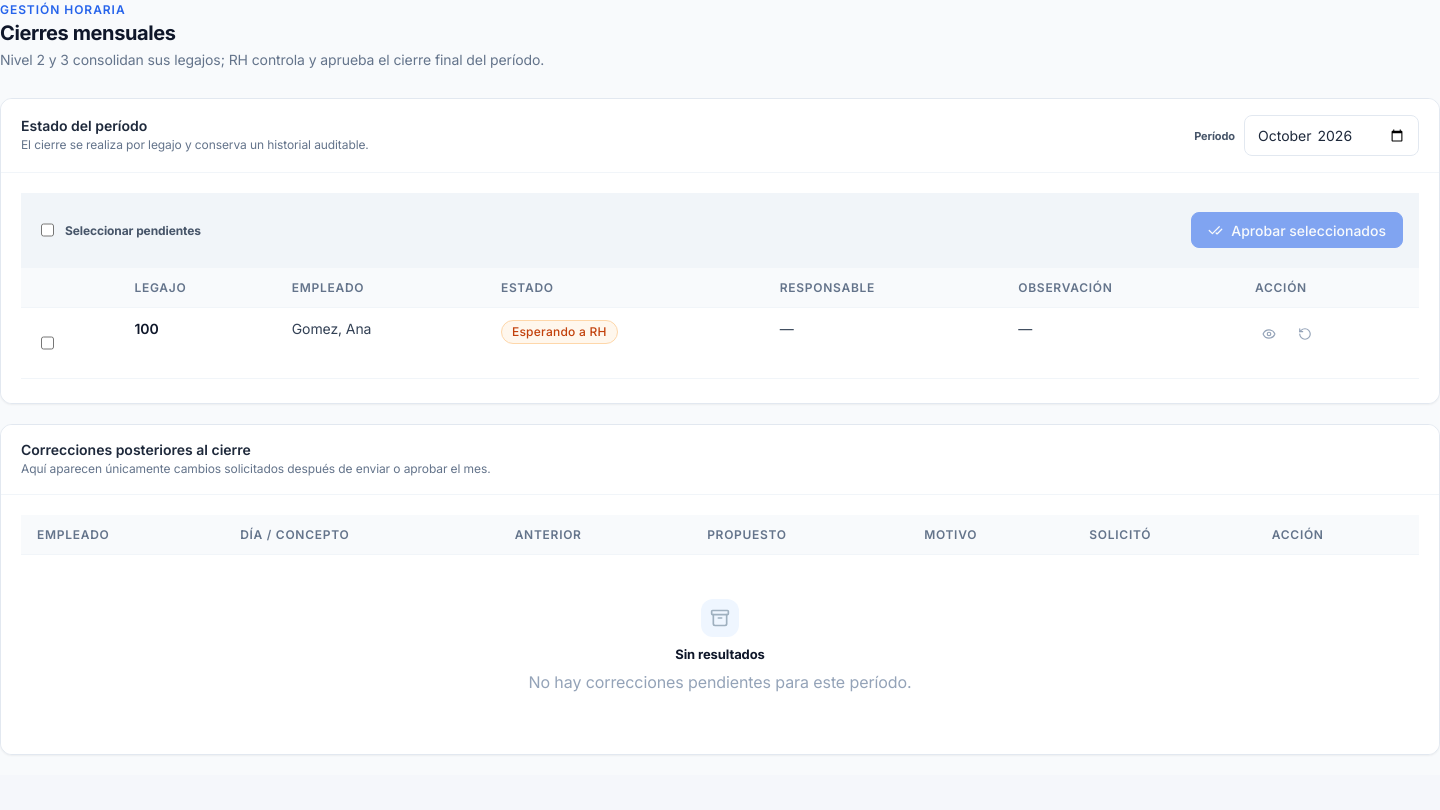
MonthlyClosuresPage — Etapa 15K (panel de revisión de horas) › cerrar el panel de revisión no dispara ninguna acción de cierre
This screenshot has width=1440, height=810.
Expected: the text "100" is shown, [134,320,159,337]
Click the button named "Revisar horas de 100". click: (1269, 334)
box: [1255,320,1283,348]
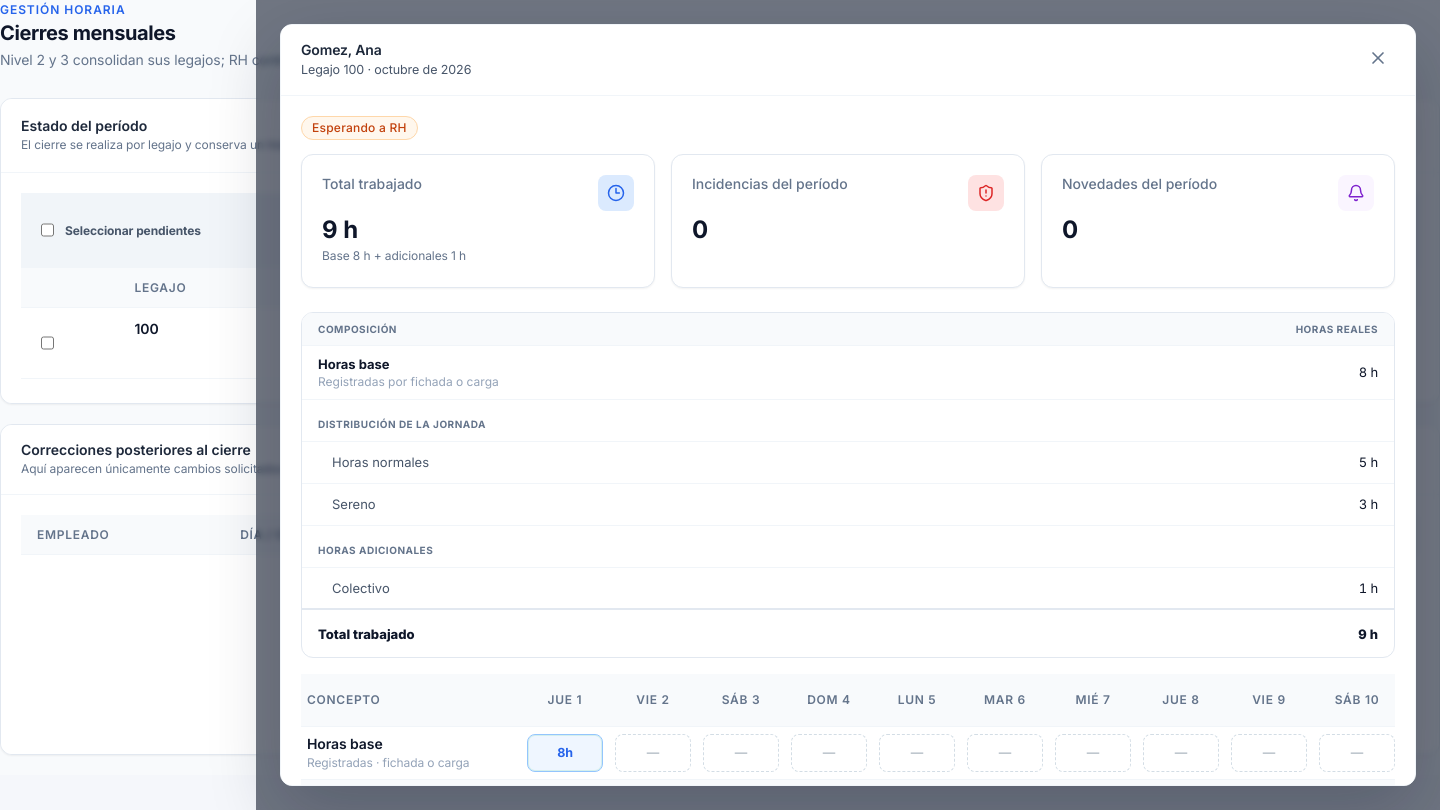
Expected: the column heading "Composición" is shown, [302,312,1214,345]
Click the button named "Cerrar". click: (1378, 58)
box: [1361,41,1395,75]
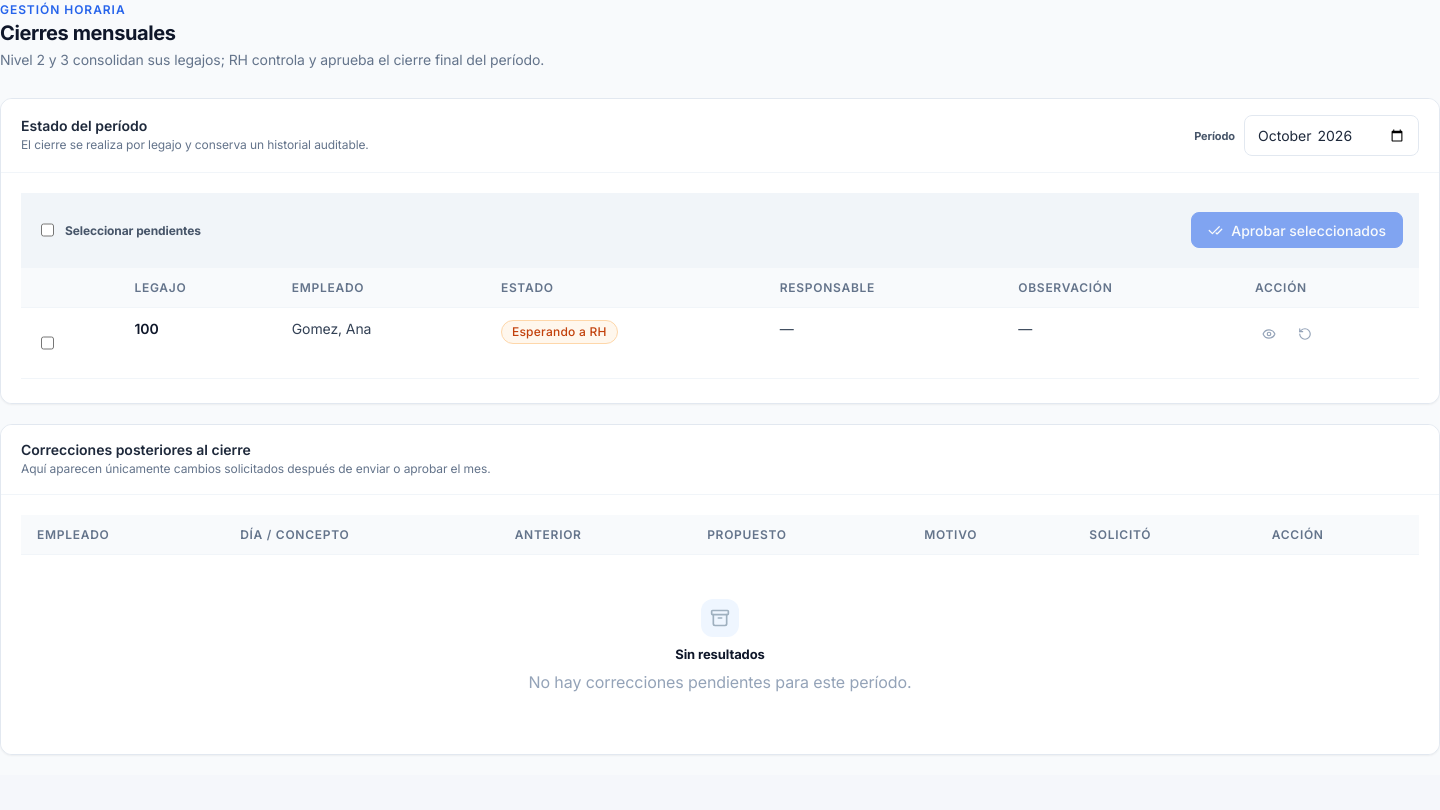
Expected: the column heading "Composición" is gone
